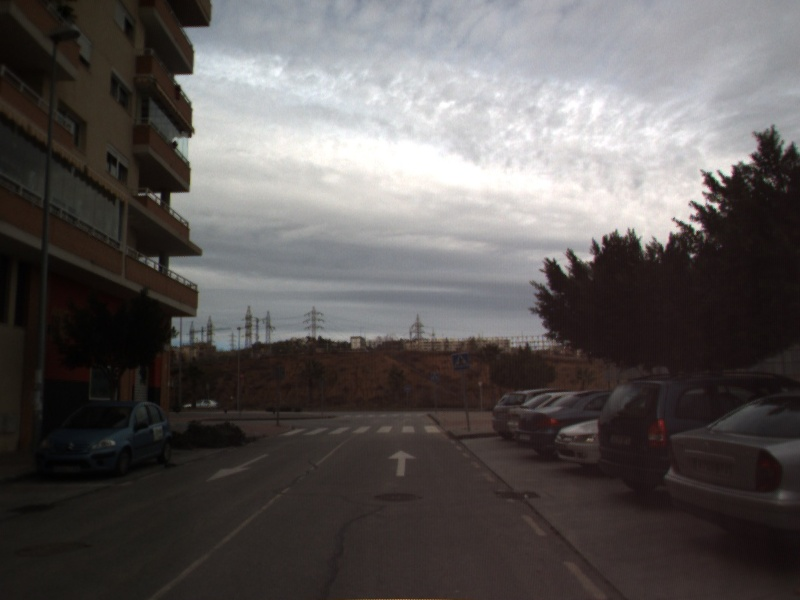STRAIGHT: (386, 448, 419, 478)
